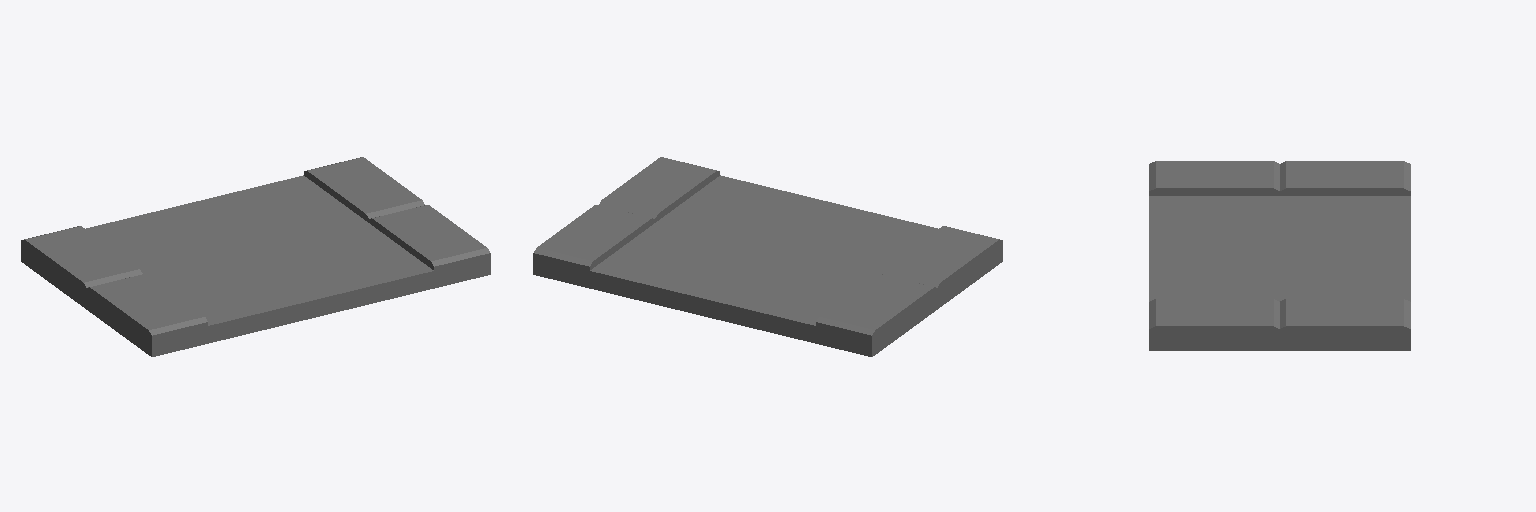
Rendered from StreetSection.obj.
3 renders of one model, left to right at view 1: azimuth 30°, elevation 25°; view 2: azimuth 150°, elevation 25°; view 3: azimuth 270°, elevation 25°, orthographic.
Visible parts, largest first — view 1: pCube1; view 2: pCube1; view 3: pCube1.
Part boxes in pixels (bbox=[...]): pCube1: bbox=[21, 157, 490, 356]; pCube1: bbox=[533, 157, 1002, 356]; pCube1: bbox=[1149, 161, 1410, 350].
Bounding box in the file's own units: 20.02 × 1.4 × 13.36.